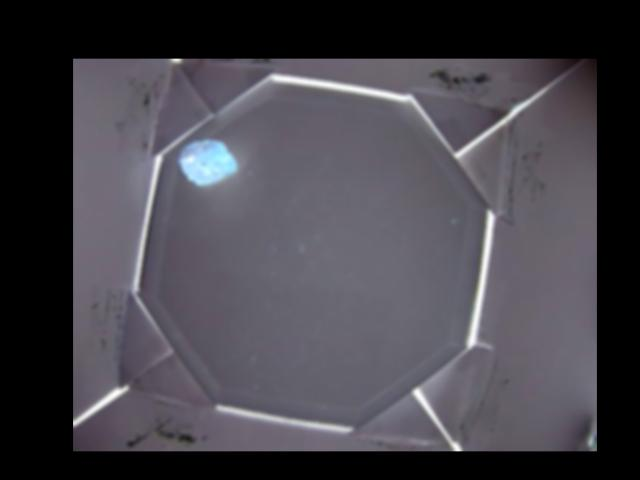Brisk: (178, 138, 239, 184)
